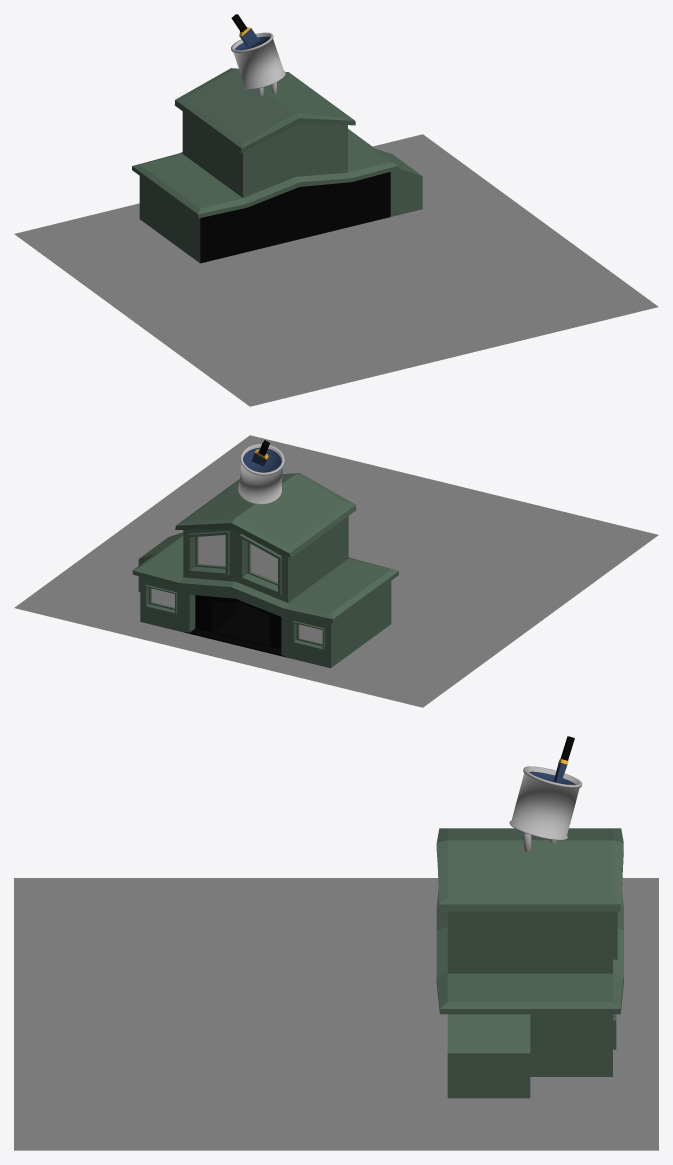
Rendered from paintstore.glb.
3 views of the same model, one above another, from view 1: azimuth 30°, elevation 25°; view 2: azimuth 150°, elevation 25°; view 3: azimuth 270°, elevation 25° (orthographic). The views are drawn at different scales.
Visible parts, largest first — view 1: paintshop; view 2: paintshop; view 3: paintshop.
Boxes of the visible parts, box(x1,y1,x2,y2) form: paintshop: box(14, 14, 658, 406); paintshop: box(14, 435, 658, 707); paintshop: box(14, 736, 658, 1150).
Size of the model in its own units: 43.99 by 20.26 by 43.99.
